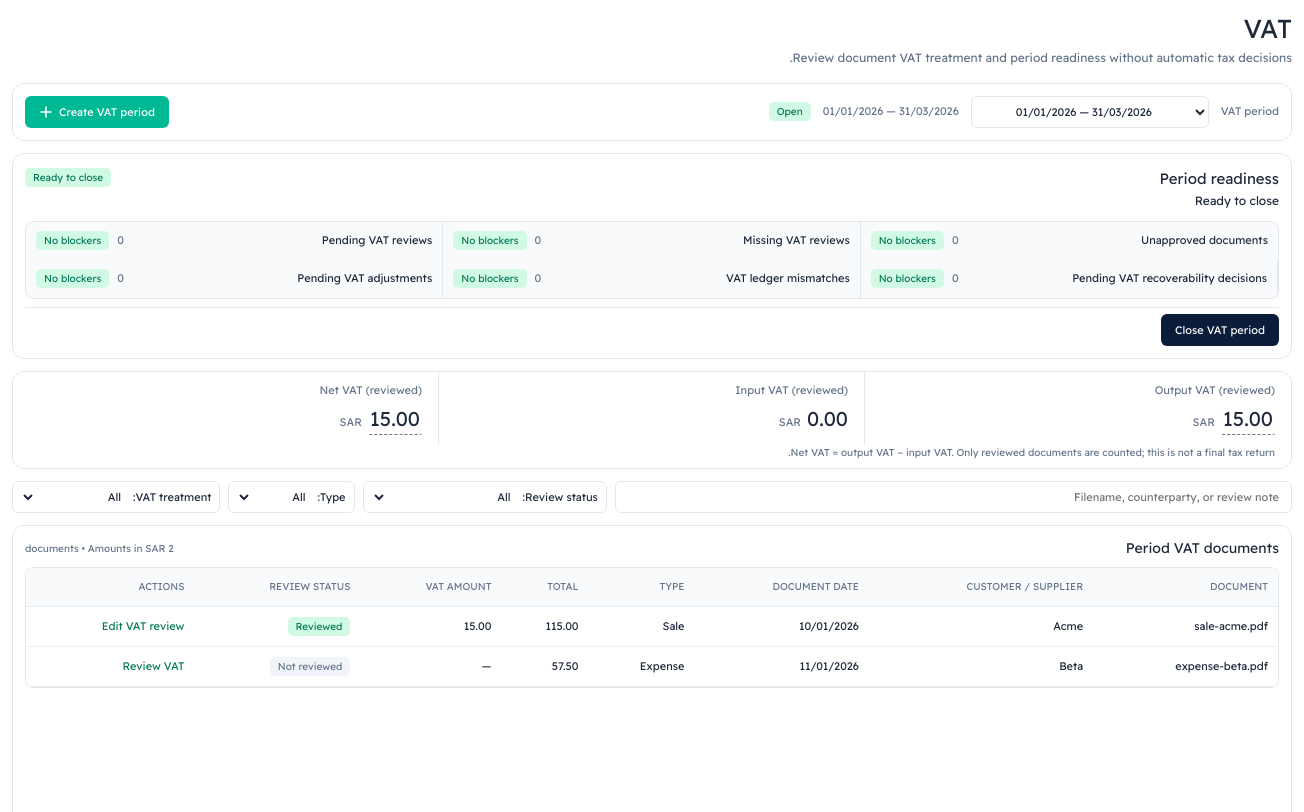
Test: VAT review workspace › filters displayed documents locally by search and treatment
Expected: the cell "sale-acme.pdf" is shown, x1=1093 y1=606 x2=1278 y2=646
Type "Beta" into the search field named "Search documents".
click(953, 497); type("Beta")  # box x1=615 y1=481 x2=1292 y2=513
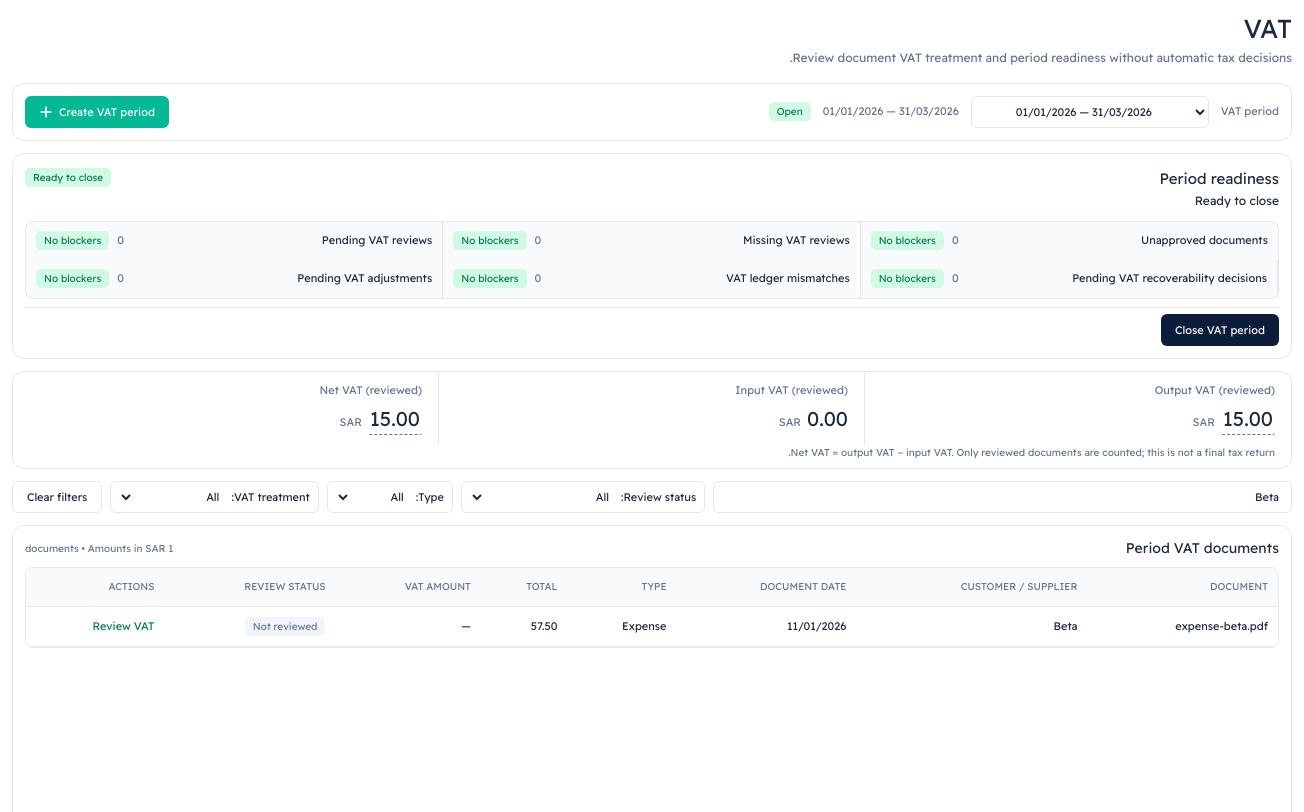
Expected: the cell "expense-beta.pdf" is shown, x1=1088 y1=606 x2=1278 y2=646
Expected: the cell "sale-acme.pdf" is gone
Select "Standard-rated" in the dropdown named "VAT treatment" at (173, 497), box x1=119 y1=483 x2=227 y2=511
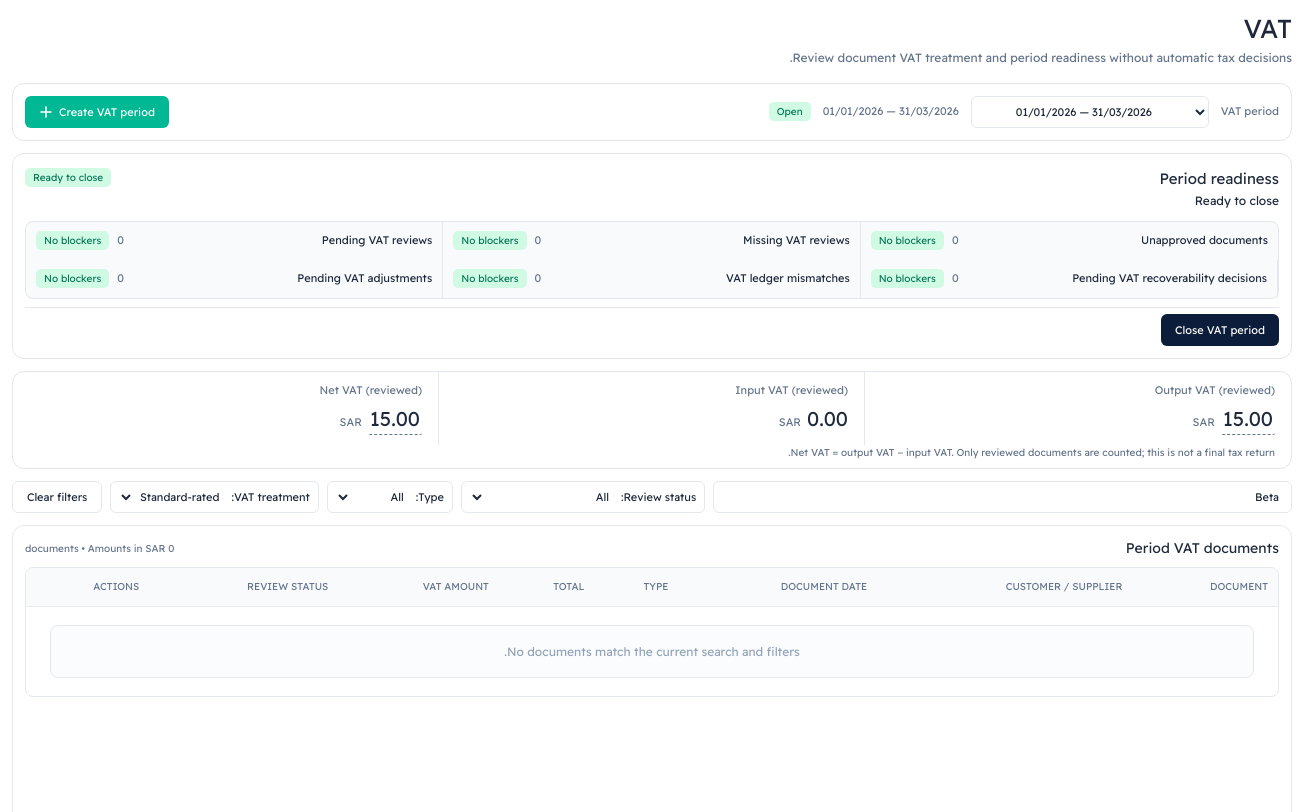
Expected: the text "No documents match the current search and filters." is shown, x1=504 y1=642 x2=800 y2=661
